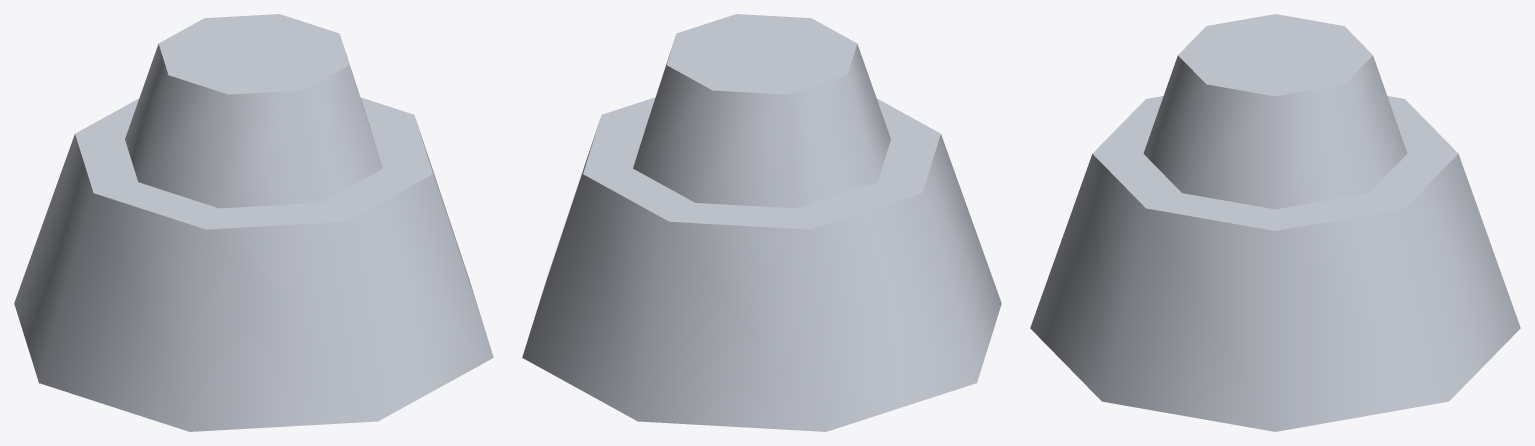
Rendered from Rock_D.fbx.
The picture shows the model from 3 angles, left to right: view 1: azimuth 30°, elevation 25°; view 2: azimuth 150°, elevation 25°; view 3: azimuth 270°, elevation 25°; orthographic projection.
Parts seen in each view (by area): view 1: Rock_D; view 2: Rock_D; view 3: Rock_D.
Boxes of the visible parts, x1,y1,x2,y2 form: Rock_D: (14,14,493,431); Rock_D: (522,14,1001,431); Rock_D: (1030,14,1520,431).
Size of the model in its own units: 200 by 123 by 200.
